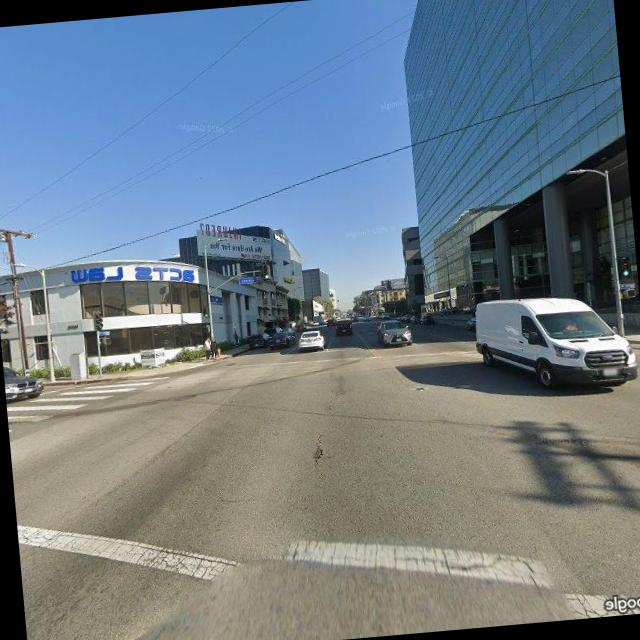pothole: (310, 429, 332, 474)
